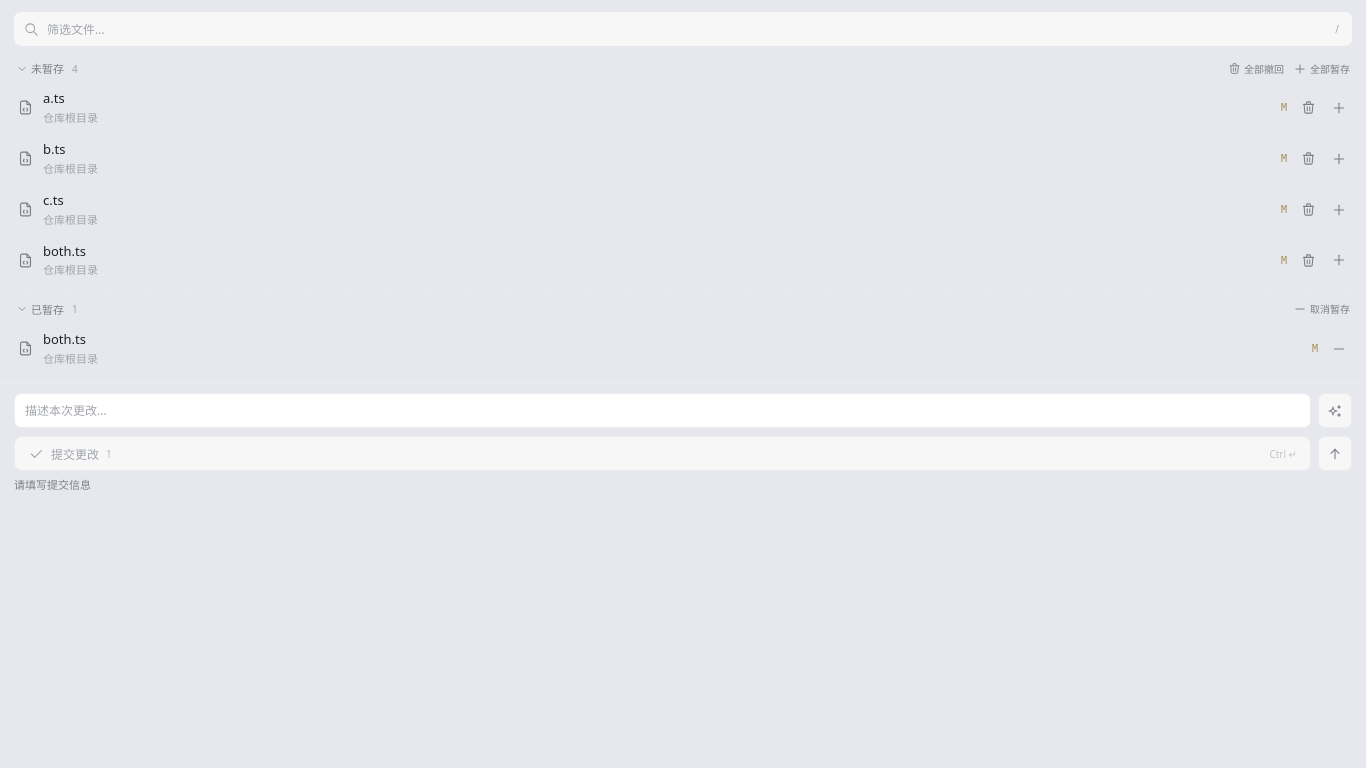
Test: 文件批量操作 › 仓库刷新移除已消失的选择，冲突文件禁用批量暂存与撤回
This screenshot has width=1366, height=768.
Step 1. Click the button "a.ts 仓库根目录 M" → x=70, y=117, box x1=9 y1=82 x2=1295 y2=133
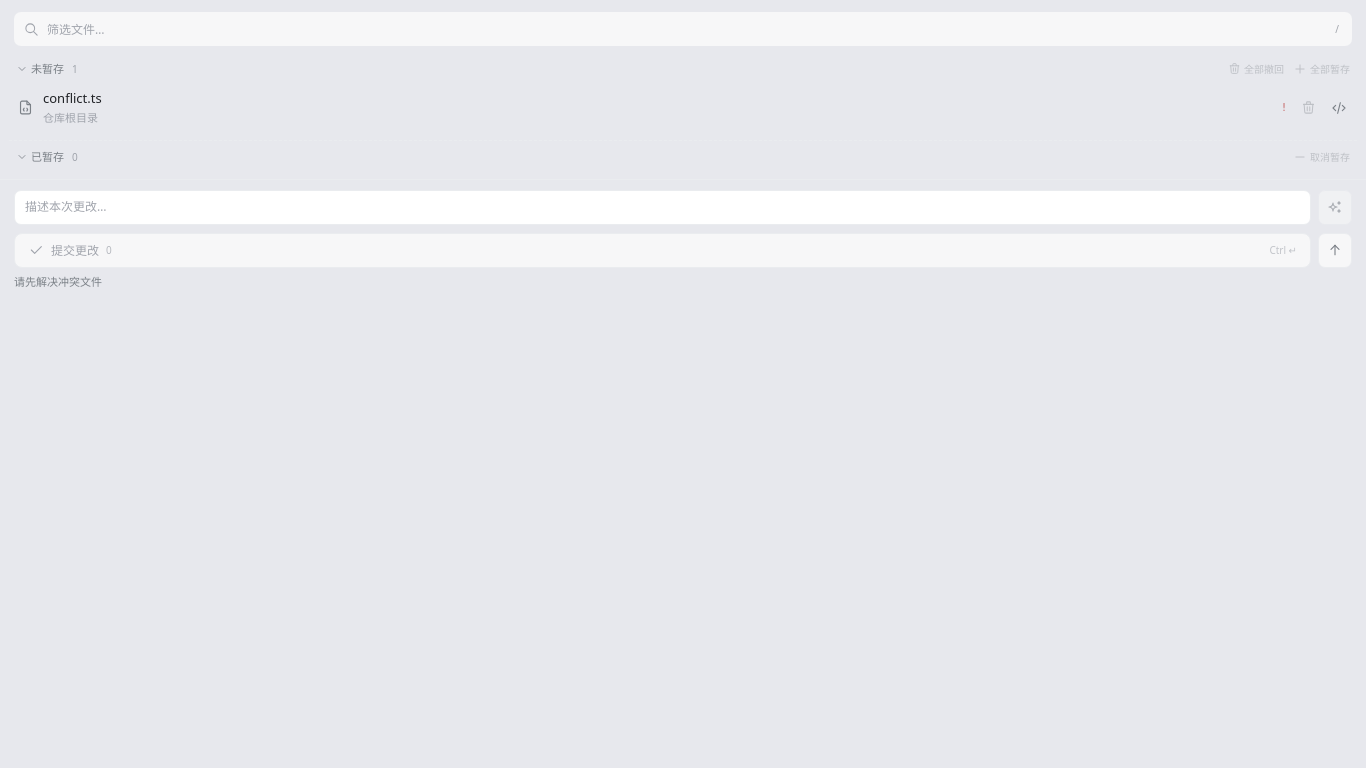
Step 2. Click the button "conflict.ts 仓库根目录 !" → x=72, y=98, box x1=9 y1=82 x2=1295 y2=133
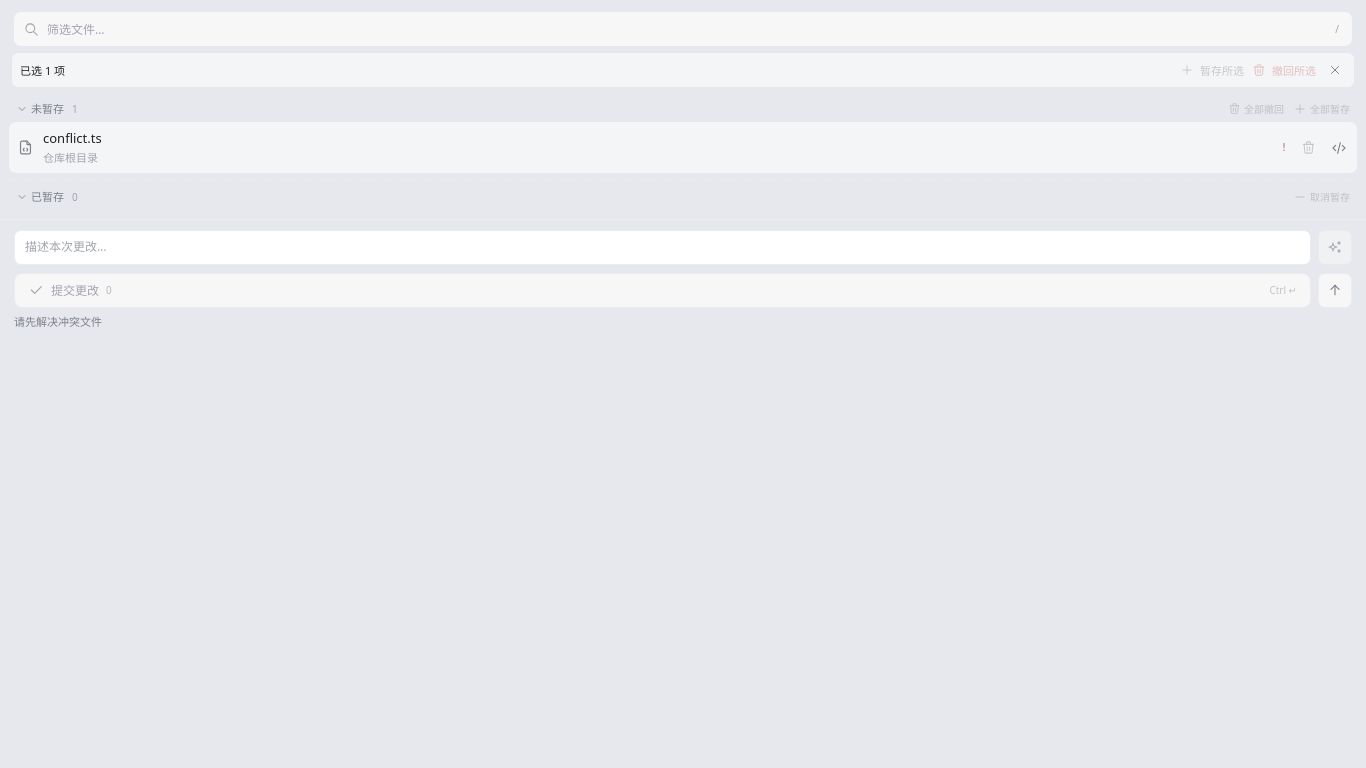
expect the button "暂存所选" is disabled: met, box x1=1180 y1=62 x2=1244 y2=78
expect the button "撤回所选" is disabled: met, box x1=1252 y1=62 x2=1316 y2=78
